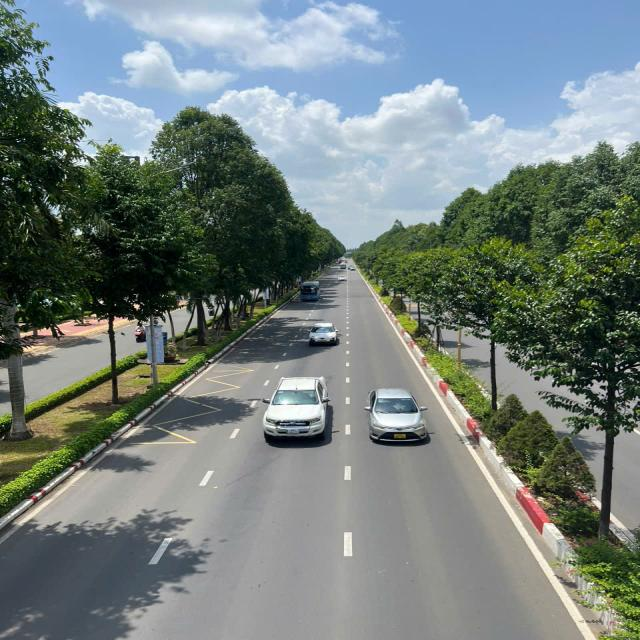car: (261, 368, 336, 444), (364, 384, 439, 448), (304, 318, 342, 349), (296, 279, 322, 304), (336, 274, 348, 284)
motobyte: (130, 320, 147, 344)
